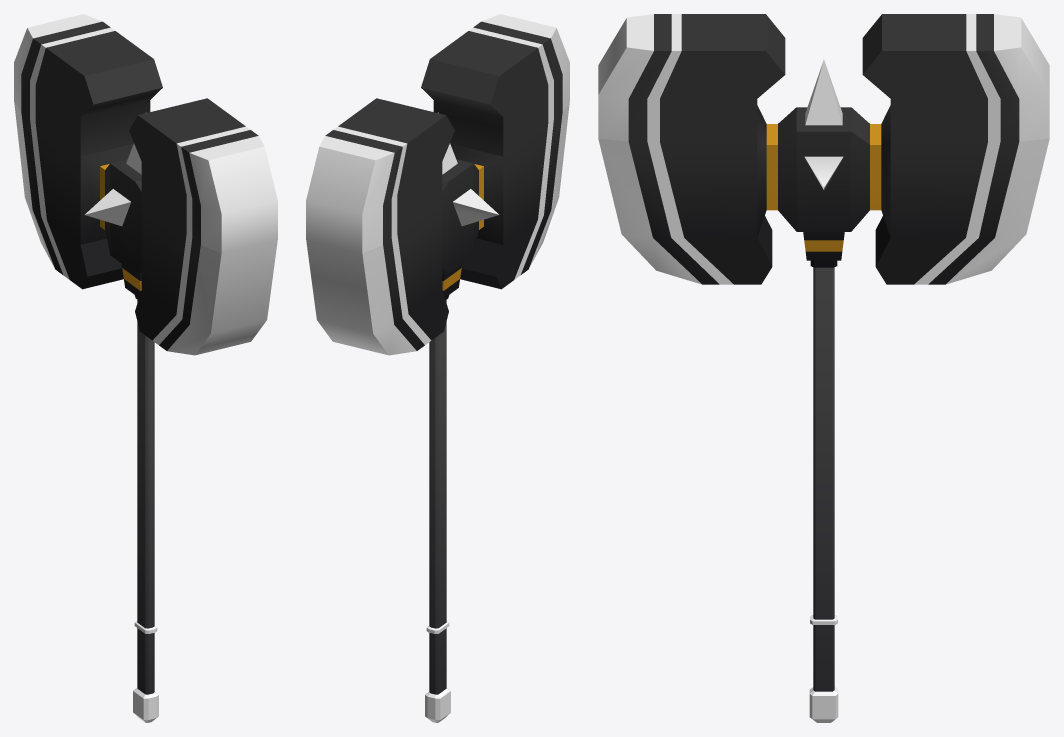
The model's file is Weapon_War_Hammer.fbx.
3 views of the same model, side by side, from view 1: azimuth 30°, elevation 25°; view 2: azimuth 150°, elevation 25°; view 3: azimuth 270°, elevation 25° (orthographic). The views are drawn at different scales.
Parts seen in each view (by area): view 1: W_H_3; view 2: W_H_3; view 3: W_H_3.
Boxes of the visible parts, <box> form: W_H_3: <box>14,14,277,722</box>; W_H_3: <box>306,14,569,722</box>; W_H_3: <box>598,14,1049,722</box>.
Size of the model in its own units: 29.68 by 146 by 86.52.
